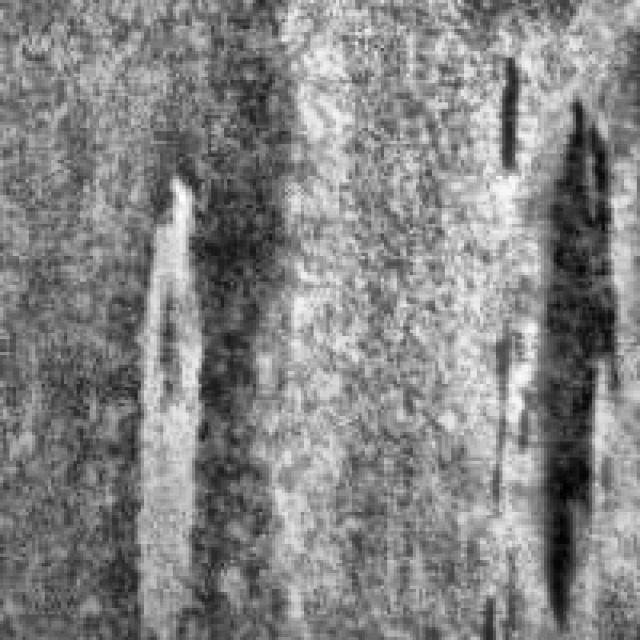Patches: (518, 90, 628, 628), (477, 48, 528, 186)
